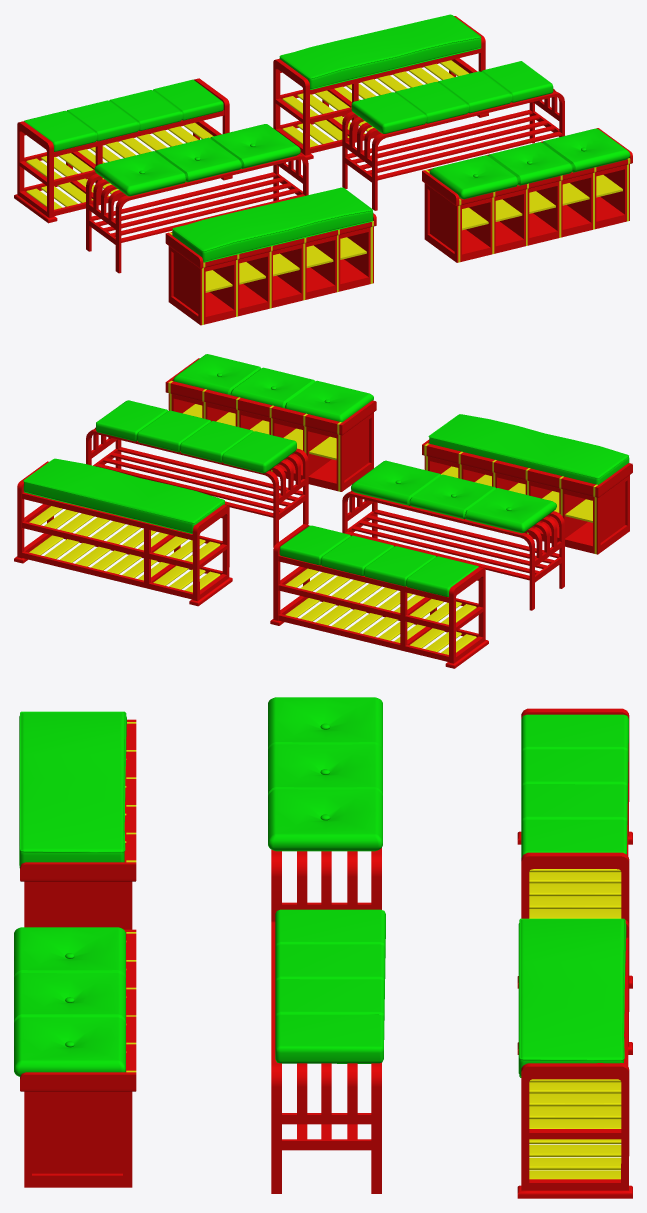
File: entry_benches_grp.fbx
The picture shows the model from 3 angles, top to bottom: view 1: azimuth 30°, elevation 25°; view 2: azimuth 150°, elevation 25°; view 3: azimuth 270°, elevation 25°; orthographic projection. The views are drawn at different scales.
Parts seen in each view (by area): view 1: entry_bench_1, entry_bench_4, entry_bench_5, entry_bench_6, entry_bench_2, entry_bench_3; view 2: entry_bench_6, entry_bench_3, entry_bench_1, entry_bench_4, entry_bench_2, entry_bench_5; view 3: entry_bench_6, entry_bench_4, entry_bench_1, entry_bench_5, entry_bench_3, entry_bench_2.
Boxes of the visible parts, x1,y1,x2,y2 form: entry_bench_1: (165, 187, 376, 325); entry_bench_4: (422, 128, 632, 262); entry_bench_5: (342, 61, 564, 210); entry_bench_6: (273, 14, 488, 159); entry_bench_2: (86, 124, 308, 273); entry_bench_3: (14, 78, 232, 223); entry_bench_6: (14, 458, 232, 606); entry_bench_3: (270, 524, 488, 668); entry_bench_1: (422, 414, 632, 554); entry_bench_4: (165, 354, 376, 491); entry_bench_2: (342, 460, 564, 610); entry_bench_5: (86, 400, 308, 547); entry_bench_6: (517, 918, 632, 1198); entry_bench_4: (14, 927, 136, 1187); entry_bench_1: (19, 711, 136, 929); entry_bench_5: (271, 909, 385, 1193); entry_bench_3: (517, 708, 632, 988); entry_bench_2: (268, 697, 382, 921).
Size of the model in its own units: 348 by 65.41 by 249.
